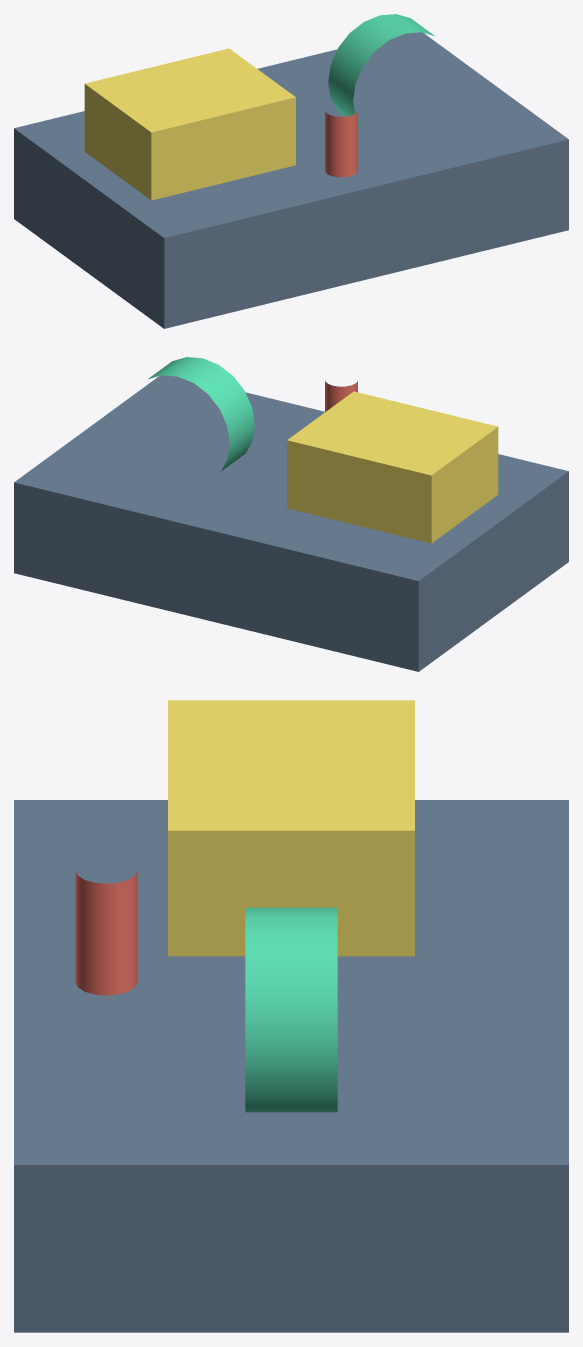
The model's file is maxwell_schering_ac_bridges.glb.
3 renders of one model, top to bottom at view 1: azimuth 30°, elevation 25°; view 2: azimuth 150°, elevation 25°; view 3: azimuth 270°, elevation 25°, orthographic. The views are drawn at different scales.
Parts seen in each view (by area): view 1: ACBridgeMainChassis, DecadeCapacitorResistanceBox, NullDetectorMicroammeter, OscillatorSource1kHzTerminals; view 2: ACBridgeMainChassis, DecadeCapacitorResistanceBox, NullDetectorMicroammeter, OscillatorSource1kHzTerminals; view 3: ACBridgeMainChassis, DecadeCapacitorResistanceBox, NullDetectorMicroammeter, OscillatorSource1kHzTerminals.
Part boxes in pixels (x1=…): ACBridgeMainChassis: x1=14, y1=32, x2=568, y2=328; DecadeCapacitorResistanceBox: x1=84, y1=48, x2=295, y2=200; NullDetectorMicroammeter: x1=328, y1=14, x2=434, y2=128; OscillatorSource1kHzTerminals: x1=325, y1=111, x2=357, y2=177; ACBridgeMainChassis: x1=14, y1=375, x2=568, y2=671; DecadeCapacitorResistanceBox: x1=287, y1=391, x2=498, y2=543; NullDetectorMicroammeter: x1=148, y1=357, x2=254, y2=471; OscillatorSource1kHzTerminals: x1=325, y1=380, x2=357, y2=411; ACBridgeMainChassis: x1=14, y1=800, x2=568, y2=1332; DecadeCapacitorResistanceBox: x1=168, y1=700, x2=414, y2=956; NullDetectorMicroammeter: x1=245, y1=907, x2=337, y2=1112; OscillatorSource1kHzTerminals: x1=75, y1=871, x2=137, y2=995.
Size of the model in its own units: 1.4 by 0.58 by 0.9.
